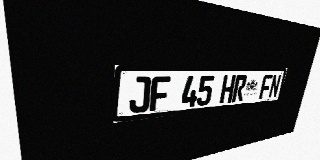4: (181, 76, 200, 108)
5: (196, 75, 214, 106)
F: (149, 76, 171, 111), (259, 75, 273, 99)
H: (219, 75, 236, 104)
J: (129, 76, 151, 114)
N: (268, 75, 282, 98)
R: (231, 75, 248, 102)
